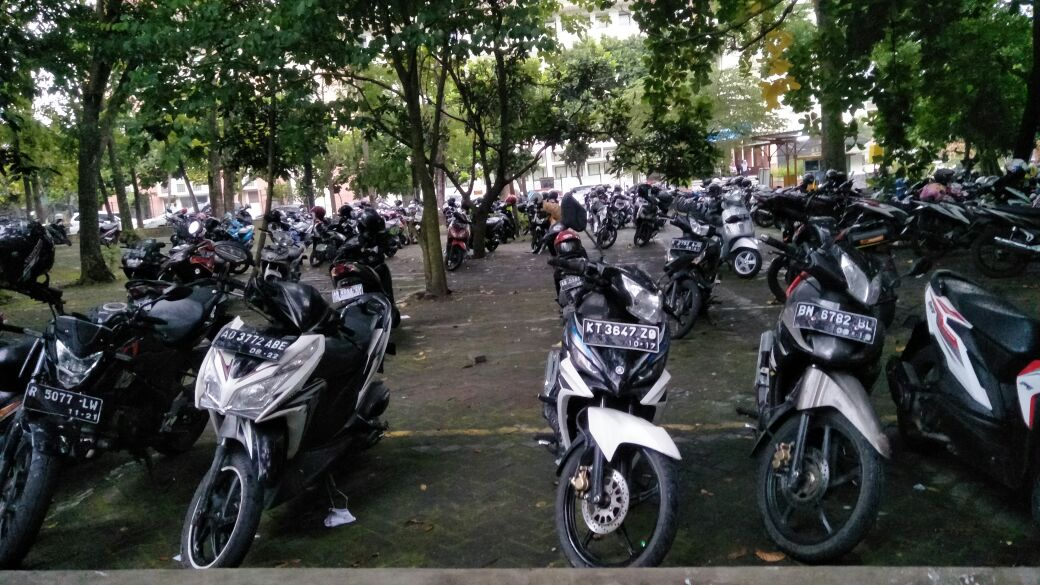plate: (792, 299, 878, 345), (22, 381, 103, 427), (577, 319, 663, 356), (212, 327, 291, 363)
